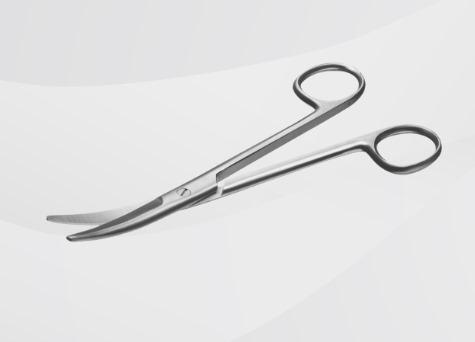Curved Mayo: (42, 61, 444, 248)
